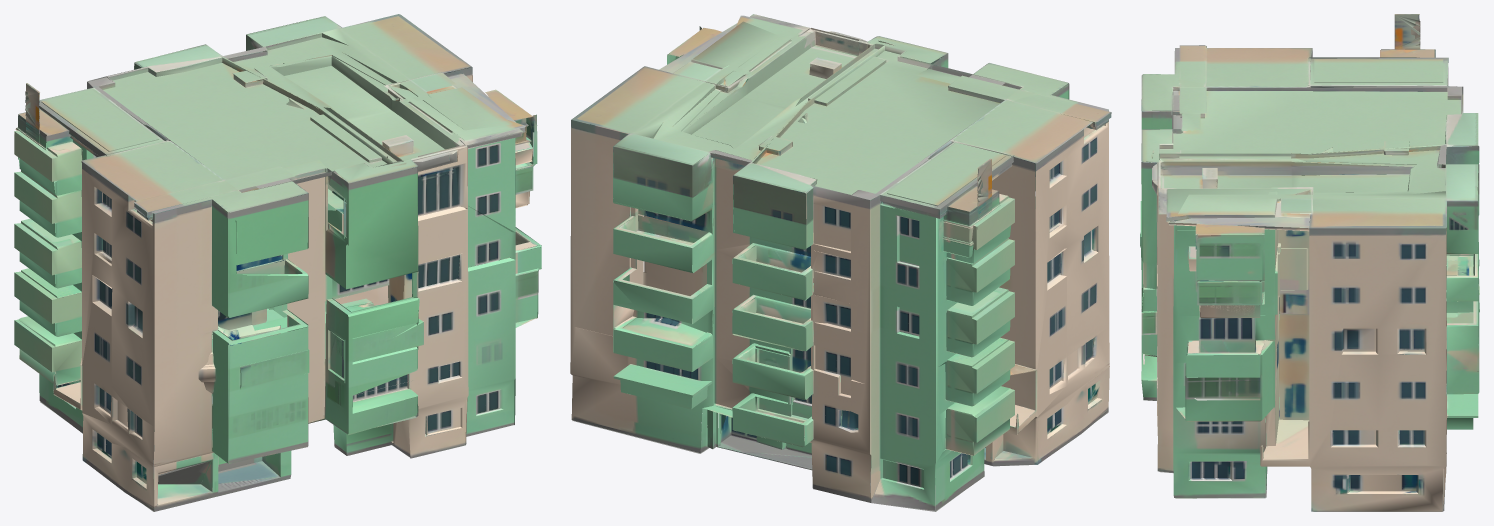
The model's file is placed_bld_383410002.glb.
3 renders of one model, left to right at view 1: azimuth 30°, elevation 25°; view 2: azimuth 150°, elevation 25°; view 3: azimuth 270°, elevation 25°, orthographic. The views are drawn at different scales.
Parts seen in each view (by area): view 1: bld_383410002; view 2: bld_383410002; view 3: bld_383410002.
Boxes of the visible parts, x1,y1,x2,y2 form: bld_383410002: (14,14,541,511); bld_383410002: (570,14,1111,511); bld_383410002: (1140,14,1479,511).
Bounding box in the file's own units: 27.14 × 21.8 × 21.09.
Materials: 1 (1 with a texture image).
